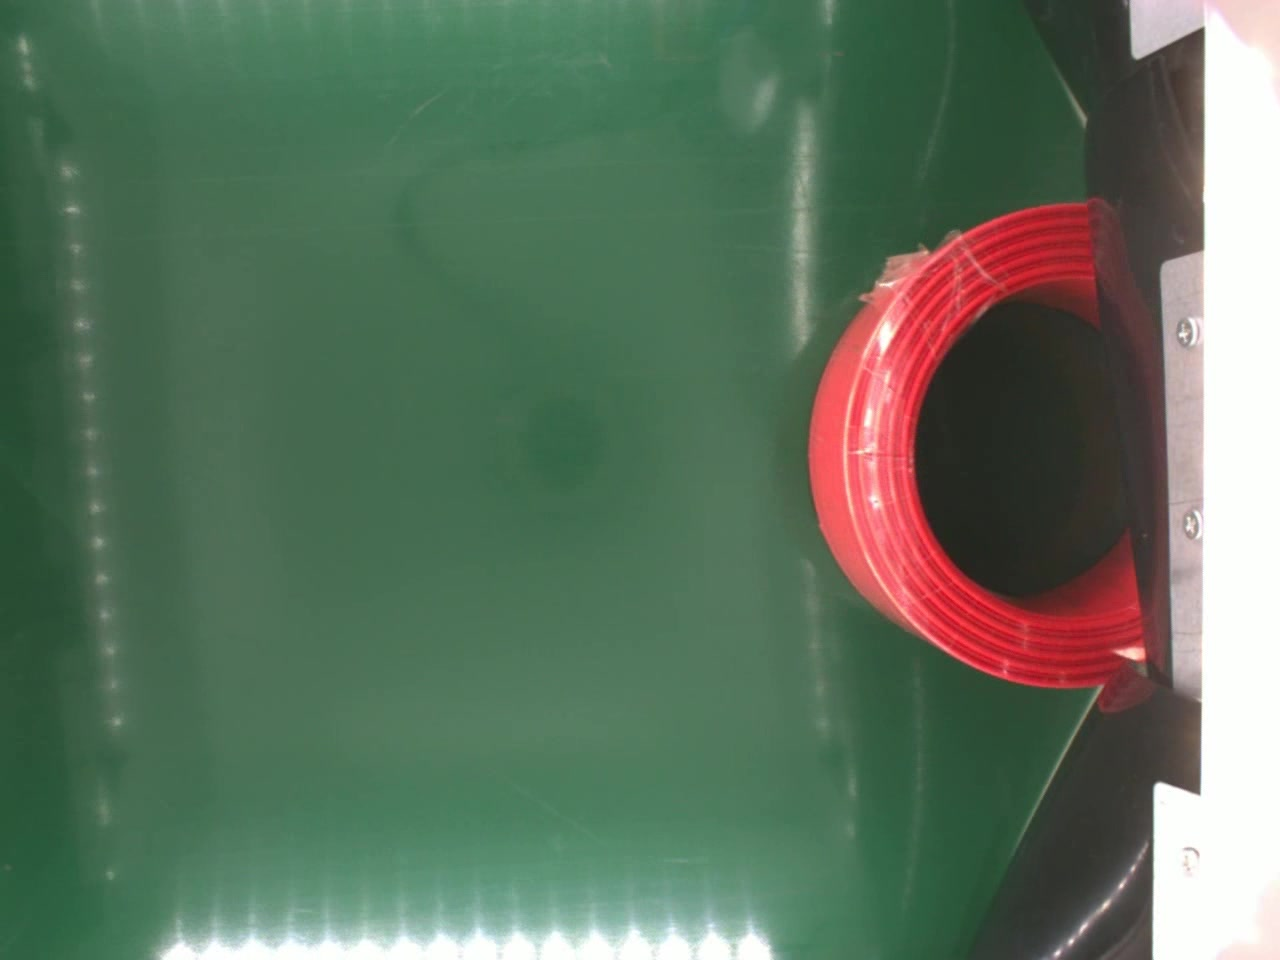red: (804, 197, 1151, 693)
